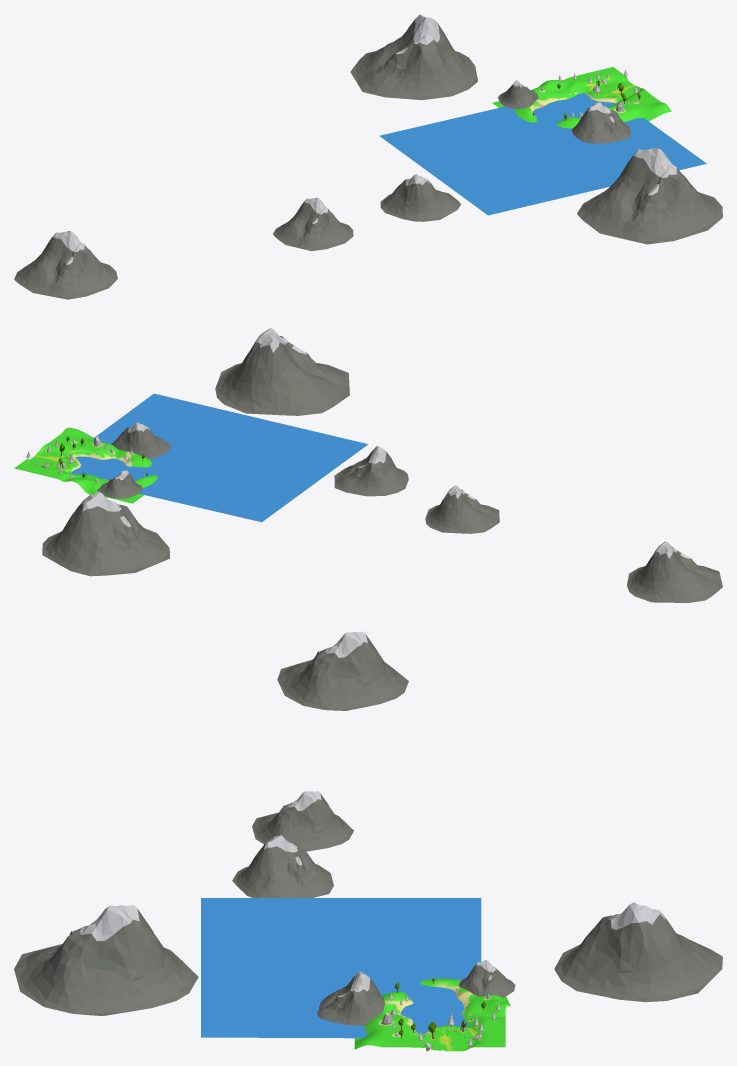
File: Model_env.fbx
The picture shows the model from 3 angles, top to bottom: view 1: azimuth 30°, elevation 25°; view 2: azimuth 150°, elevation 25°; view 3: azimuth 270°, elevation 25°; orthographic projection. The views are drawn at different scales.
Parts seen in each view (by area): view 1: Model_Env.006, model_water, model_floor; view 2: Model_Env.006, model_water, model_floor; view 3: Model_Env.006, model_water, model_floor.
Part boxes in pixels (x1=…): Model_Env.006: x1=14, y1=14, x2=722, y2=299; model_water: x1=379, y1=92, x2=706, y2=215; model_floor: x1=492, y1=67, x2=671, y2=128; Model_Env.006: x1=42, y1=328, x2=722, y2=602; model_water: x1=69, y1=393, x2=368, y2=522; model_floor: x1=14, y1=427, x2=157, y2=503; Model_Env.006: x1=14, y1=631, x2=722, y2=1025; model_water: x1=201, y1=898, x2=481, y2=1038; model_floor: x1=354, y1=978, x2=510, y2=1051.
Size of the model in its own units: 49717 by 5354 by 36268.
